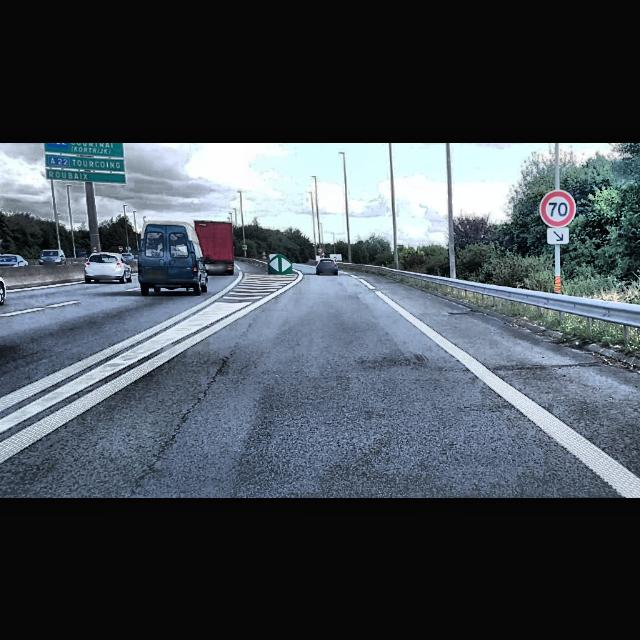speed_70: (541, 190, 575, 226)
